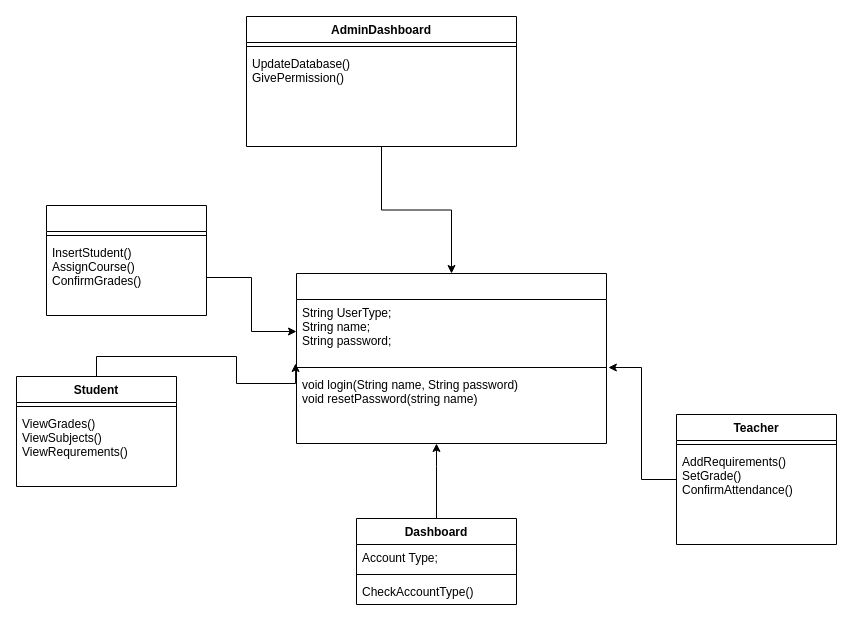
This 853x621 diagram has some shape labels left out. Here are the shapes that lost their labels. From the top down, the box of each, then its label:
(46, 204, 206, 316): Secretary
(296, 272, 606, 444): Account
